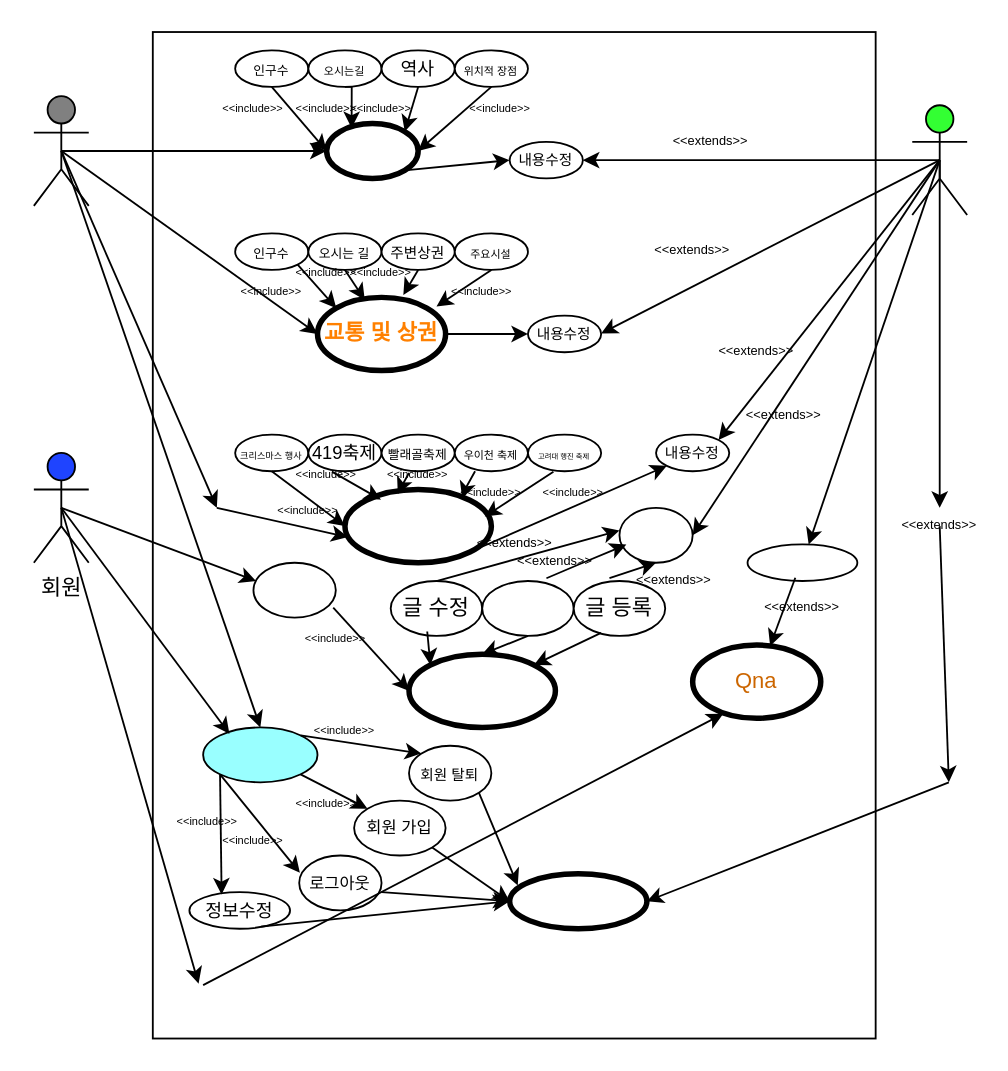
Image size: 1008x1071. Some labels were removed from this diagram. Here are the shapes that lost their labels. From the top down, the box of each, then its label:
(32, 94, 89, 206): 비회원
(323, 120, 420, 180): 소개
(910, 103, 967, 215): 관리자
(341, 486, 493, 565): 행사
(618, 506, 693, 563): 글 관리
(746, 543, 857, 581): 답변 및 관리
(252, 561, 336, 618): 목록 보기
(480, 579, 574, 636): 글 삭제
(405, 651, 557, 729): 공지사항
(201, 726, 318, 782): 로그인
(506, 870, 649, 931): 회원관리
